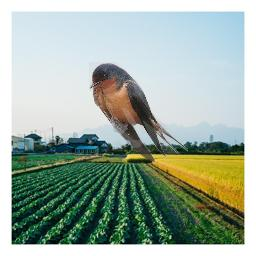Swallow: (89, 62, 188, 162)
